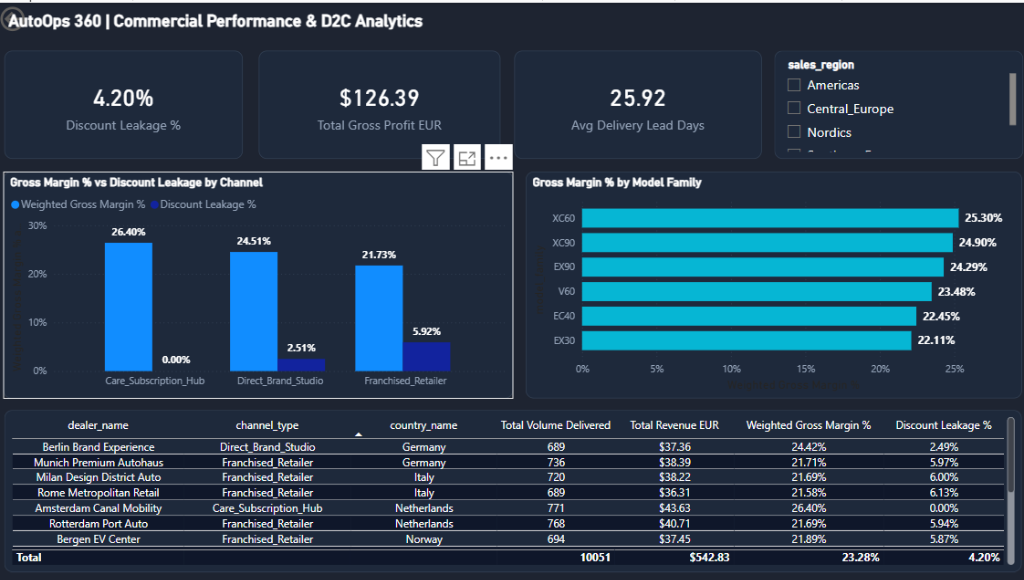

The dashboard page shown, as its layout file describes it:
{"tool":"powerbi","page":{"name":"Page 2","canvas":[1280,720],"ordinal":1},"visuals":[{"type":"card","fields":{"Values":["dim_dates.Discount Leakage %"]},"box":[9.9,59.2,294.4,133.8],"z":0},{"type":"card","fields":{"Values":["dim_dates.Total Gross Profit EUR"]},"box":[323.9,59.2,298.6,133.8],"z":1000},{"type":"card","fields":{"Values":["dim_dates.Avg Delivery Lead Days"]},"box":[639.4,59.2,305.6,133.8],"z":2000},{"type":"clusteredColumnChart","title":"Gross Margin % vs Discount Leakage by Channel","fields":{"Category":["dim_dealers.channel_type"],"Y":["dim_dates.Weighted Gross Margin %","dim_dates.Discount Leakage %"]},"box":[8.5,208.5,629.6,280.3],"z":3000},{"type":"clusteredBarChart","title":"Gross Margin % by Model Family","fields":{"Category":["dim_vehicles.model_family"],"Y":["dim_dates.Weighted Gross Margin %"]},"box":[653.5,208.5,612.7,280.3],"z":4000},{"type":"tableEx","fields":{"Values":["dim_dealers.dealer_name","dim_dealers.channel_type","dim_geography.country_name","dim_dates.Total Volume Delivered","dim_dates.Total Revenue EUR","dim_dates.Weighted Gross Margin %","dim_dates.Discount Leakage %"]},"box":[9.9,502.8,1256.3,200],"z":5000},{"type":"actionButton","box":[0,0,100,40],"z":6000},{"type":"textbox","title":"AutoOps 360 | Commercial Performance & D2C Analytics","box":[9.9,9.9,666.2,31],"z":7000},{"type":"slicer","fields":{"Values":["dim_geography.sales_region"]},"box":[960.6,59.2,307,133.8],"z":8000}]}

Visuals, with their boxes in screenshot pixels (x1, y1, x2, y2), scaled from the page's 1280x720 canvas onto the 1024x580 screenshot:
card - dim_dates.Discount Leakage %: rect(8, 48, 243, 155)
card - dim_dates.Total Gross Profit EUR: rect(259, 48, 498, 155)
card - dim_dates.Avg Delivery Lead Days: rect(512, 48, 756, 155)
"Gross Margin % vs Discount Leakage by Channel" clusteredColumnChart: rect(7, 168, 510, 394)
"Gross Margin % by Model Family" clusteredBarChart: rect(523, 168, 1013, 394)
tableEx - dim_dealers.dealer_name x dim_dealers.channel_type: rect(8, 405, 1013, 566)
actionButton: rect(0, 0, 80, 32)
"AutoOps 360 | Commercial Performance & D2C Analytics" textbox: rect(8, 8, 541, 33)
slicer - dim_geography.sales_region: rect(768, 48, 1014, 155)
